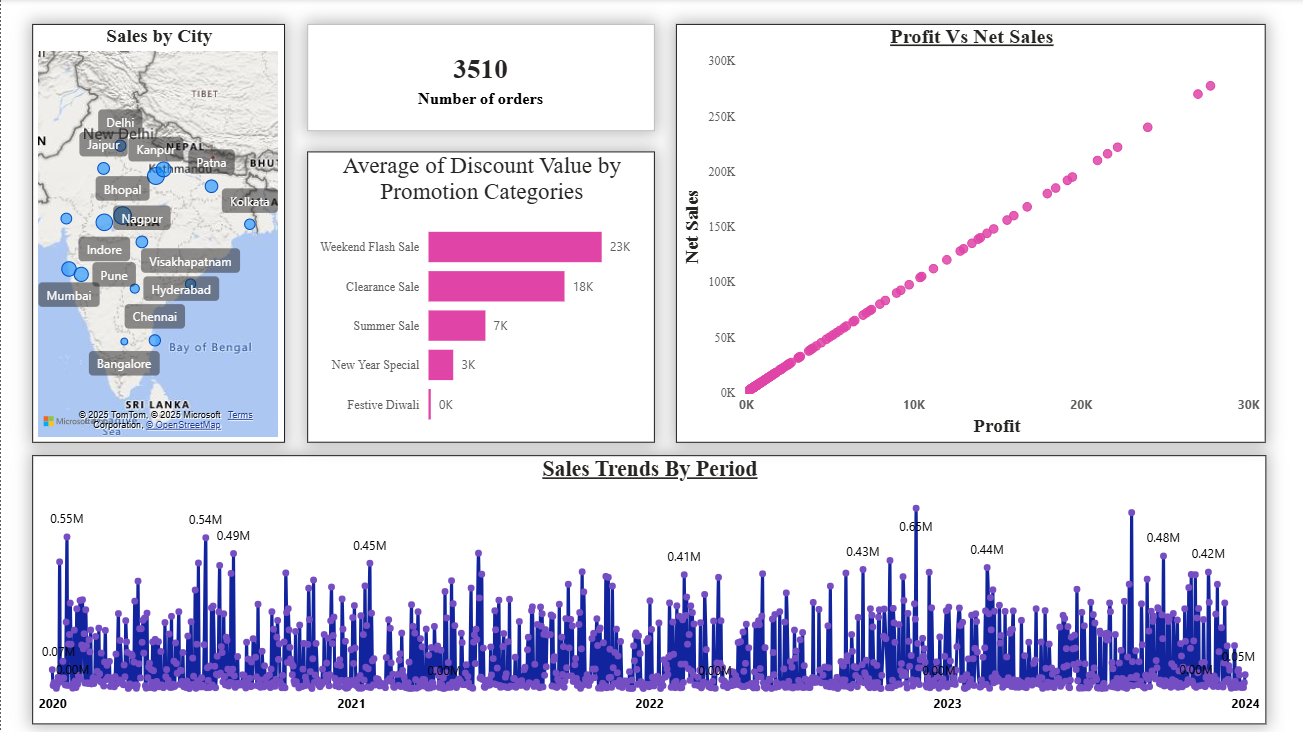

The page's visual inventory and layout, read from the dashboard file:
{"tool":"powerbi","page":{"name":"Overview","canvas":[1280,720],"ordinal":0},"visuals":[{"type":"lineChart","title":"Sales Trends By Period","fields":{"Y":["Sum(Fact Table.Net Sales )"],"Category":["Fact Table.Date (dd/mm/yyyy).Variation.Date Hierarchy.Year"]},"box":[30.6,446.3,1206.9,262.9],"z":0},{"type":"scatterChart","title":"Profit Vs Net Sales ","fields":{"X":["Fact Table.Profit"],"Y":["Fact Table.Net Sales "]},"box":[660.3,24.5,577.2,409.6],"z":1000},{"type":"barChart","title":"Average of Discount Value by Promotion Categories","fields":{"Y":["Avg(Fact Table.Discount Value)"],"Category":["Dim Promotion.Promotion Name"]},"box":[299.6,149.2,339.9,284.9],"z":2000},{"type":"map","title":"Sales  by City","fields":{"Size":["Sum(Fact Table.Net Sales )"],"Category":["Dim Customers.City"]},"box":[30.6,24.5,247,409.6],"z":3000},{"type":"card","fields":{"Values":["Count(Fact Table.Order ID)"]},"box":[299.6,24.5,339.9,105.2],"z":4000}]}

Visuals, with their boxes in screenshot pixels (x1, y1, x2, y2), scaled from the page's 1280x720 canvas onto the 1303x732 screenshot:
"Sales Trends By Period" lineChart: <box>31,454,1260,721</box>
"Profit Vs Net Sales " scatterChart: <box>672,25,1260,441</box>
"Average of Discount Value by Promotion Categories" barChart: <box>305,152,651,441</box>
"Sales  by City" map: <box>31,25,283,441</box>
card - Count(Fact Table.Order ID): <box>305,25,651,132</box>
